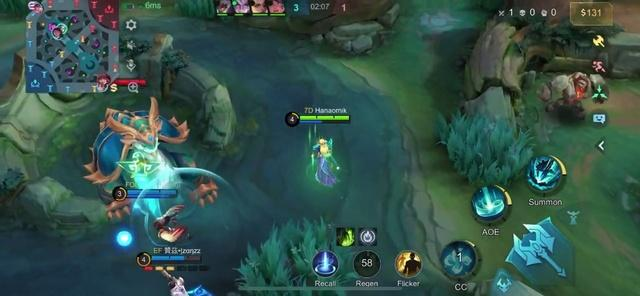bush: (154, 108, 456, 296), (234, 50, 640, 172)
hp_self: (300, 115, 351, 121)
